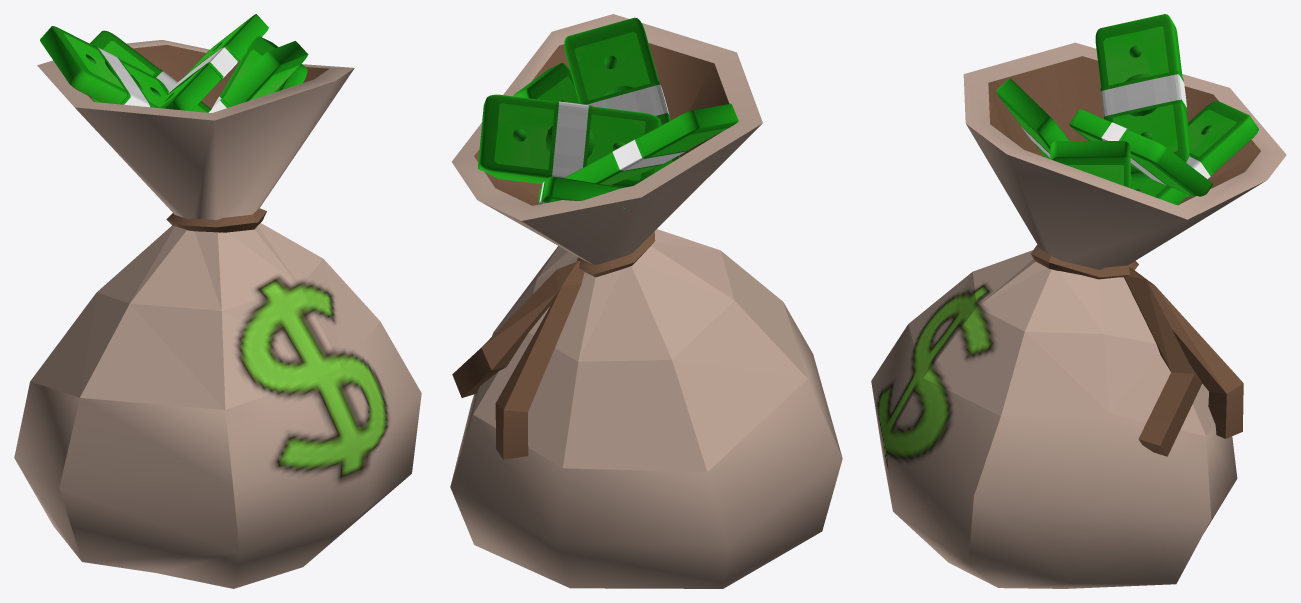
The model's file is Bag.FBX.
3 renders of one model, left to right at view 1: azimuth 30°, elevation 25°; view 2: azimuth 150°, elevation 25°; view 3: azimuth 270°, elevation 25°, orthographic. The views are drawn at different scales.
Parts seen in each view (by area): view 1: Money_bag_asset; view 2: Money_bag_asset; view 3: Money_bag_asset.
Part boxes in pixels (x1=…): Money_bag_asset: x1=14, y1=14, x2=421, y2=588; Money_bag_asset: x1=450, y1=14, x2=842, y2=588; Money_bag_asset: x1=871, y1=14, x2=1286, y2=588.
Size of the model in its own units: 8677 by 12019 by 9327.
